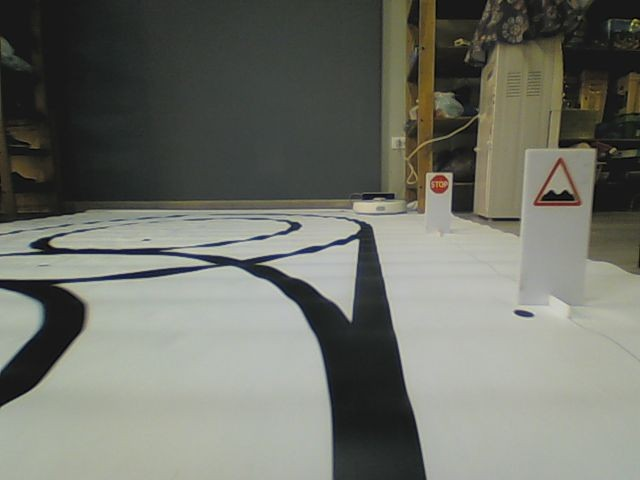Nerov: (531, 156, 584, 208)
Stop: (430, 174, 449, 195)
